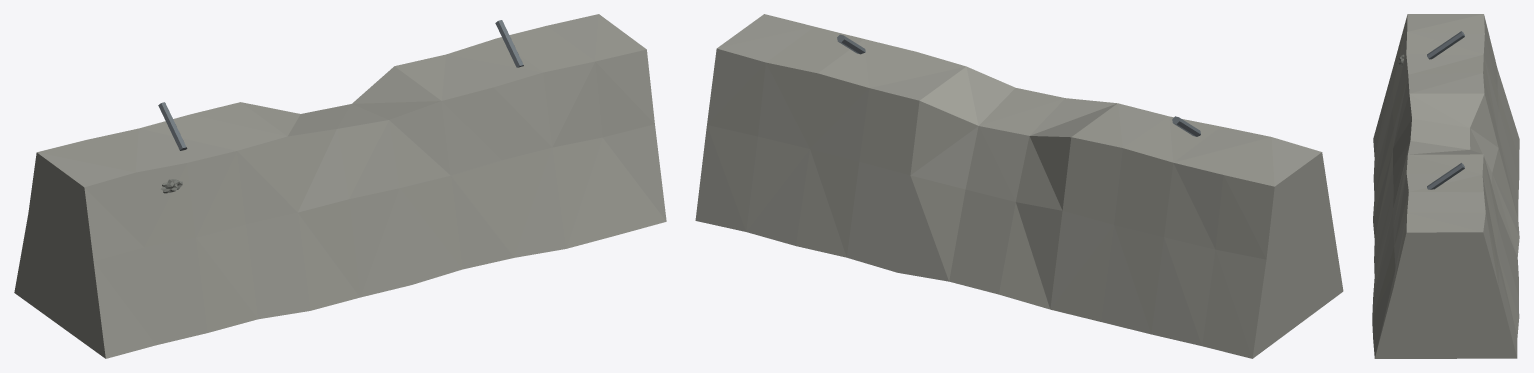
File: highway_barrier.glb
3 renders of one model, left to right at view 1: azimuth 30°, elevation 25°; view 2: azimuth 150°, elevation 25°; view 3: azimuth 270°, elevation 25°, orthographic. The views are drawn at different scales.
Parts seen in each view (by area): view 1: highway_barrier; view 2: highway_barrier; view 3: highway_barrier.
Boxes of the visible parts, x1=… form: highway_barrier: x1=14, y1=14, x2=666, y2=358; highway_barrier: x1=695, y1=14, x2=1343, y2=358; highway_barrier: x1=1372, y1=14, x2=1519, y2=358.
Size of what is drawn, in the model's own units: 3 by 0.9721 by 0.8522.
1 material, 1 textured.
